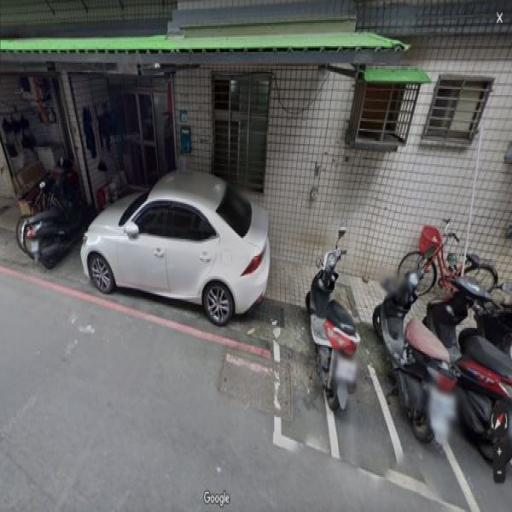MIU: (68, 246, 128, 324)
car: (74, 142, 276, 336)
redline: (0, 247, 275, 366)
